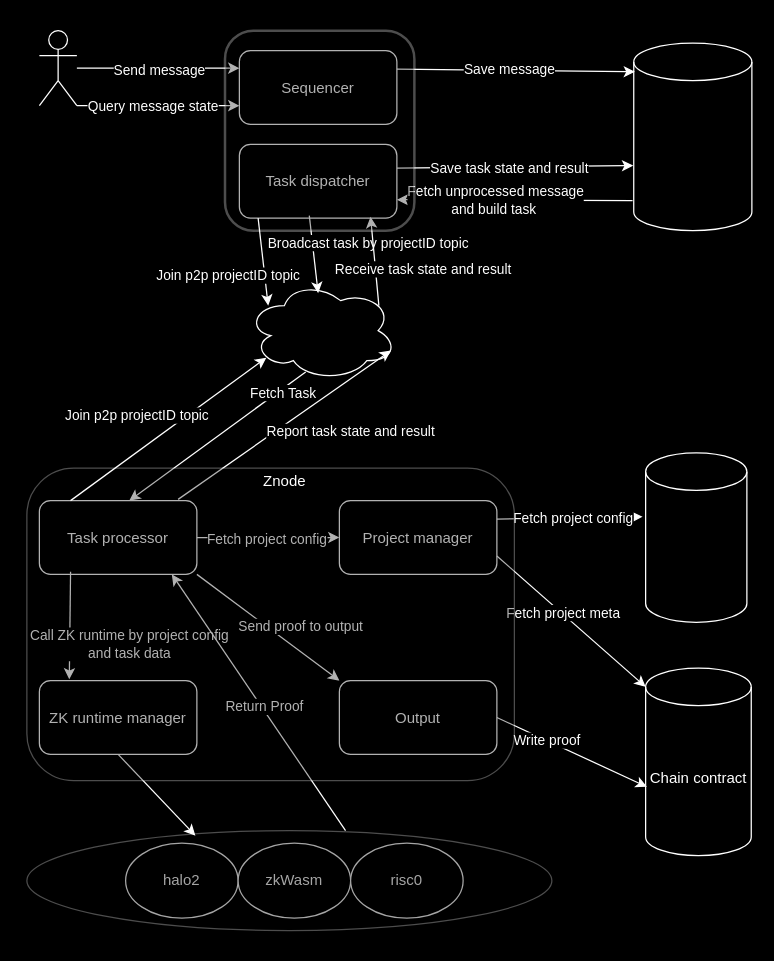
Some shapes in this 774 by 961 pixel diagram are drawn without their labels. The shapes that lost their labels are listed below. From the top down, each one's centre as x and y in pixels, then its label:
point 57,67: User
point 319,130: Enode
point 692,136: Data availability
point 321,330: P2P network
point 695,537: IPFS
